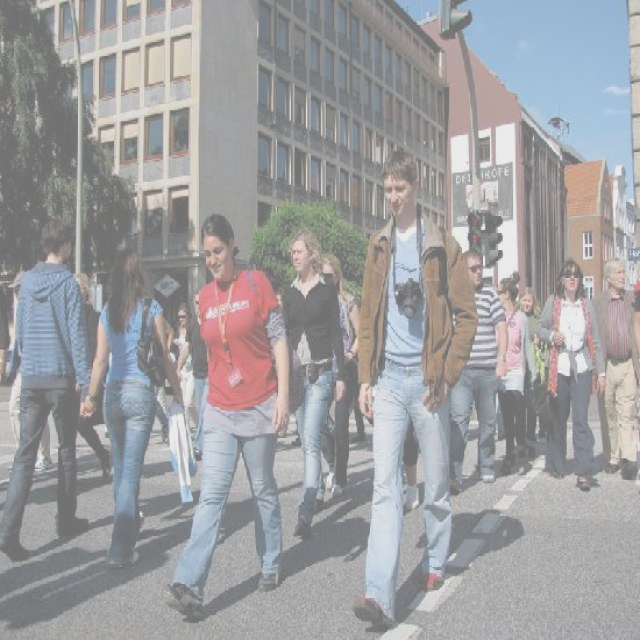pessoa: (350, 147, 480, 634), (155, 208, 291, 625), (76, 245, 198, 570), (0, 214, 98, 566), (280, 230, 348, 539), (536, 255, 608, 492), (447, 247, 510, 496), (579, 253, 639, 488), (54, 269, 116, 488), (319, 248, 363, 501), (6, 267, 56, 477), (492, 270, 539, 477), (174, 288, 210, 464), (330, 280, 360, 446), (518, 284, 547, 446), (170, 302, 200, 444), (530, 296, 550, 386), (0, 282, 12, 383), (272, 276, 294, 312), (629, 284, 639, 360), (152, 394, 168, 440)
